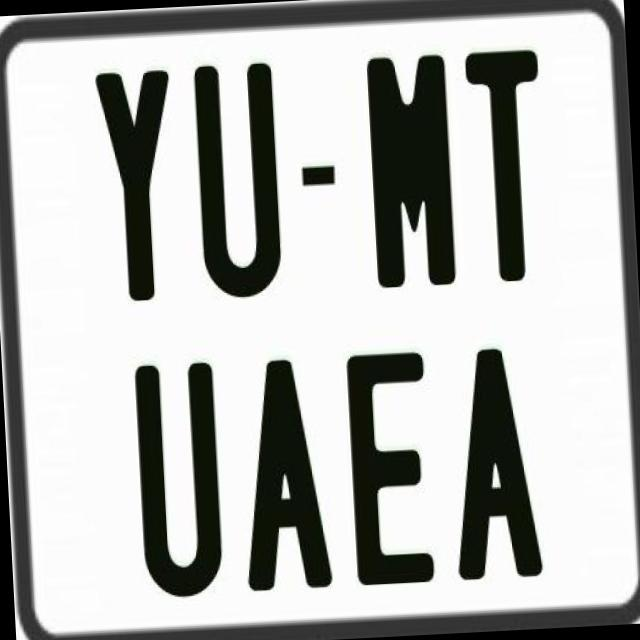A: (443, 346, 545, 588), (235, 355, 334, 590)
E: (344, 352, 438, 586)
M: (364, 54, 454, 292)
T: (462, 47, 552, 283)
U: (193, 61, 285, 304), (132, 362, 222, 603)
Y: (96, 64, 186, 304)
